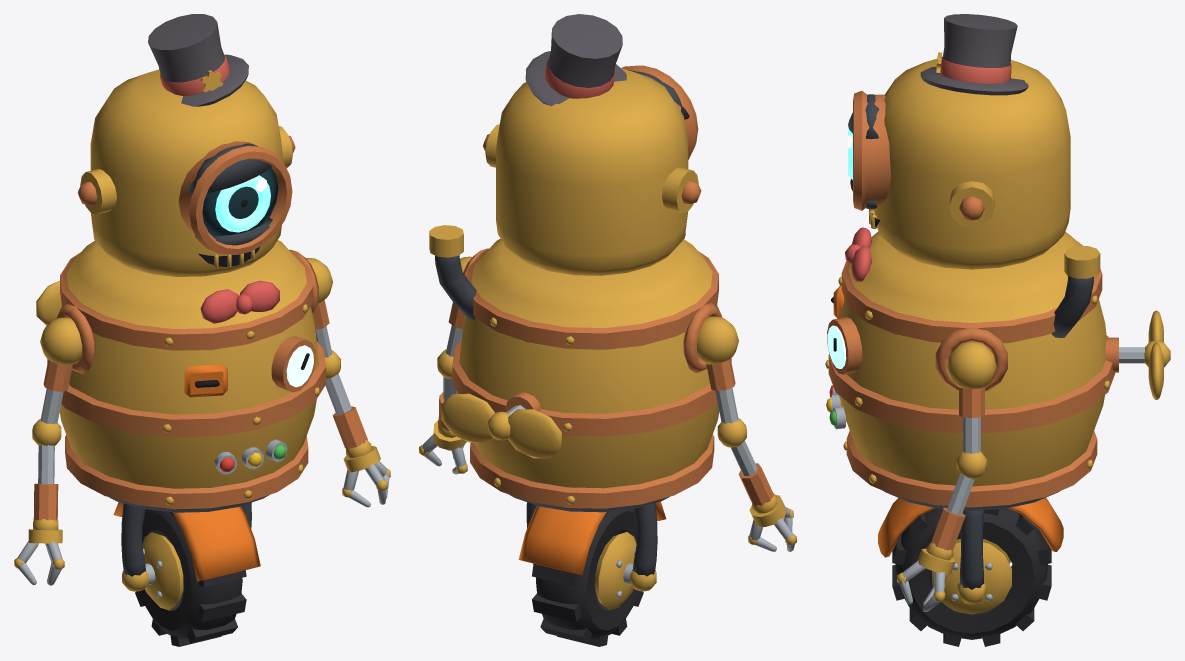
The model's file is npc_gus.glb.
The picture shows the model from 3 angles, left to right: view 1: azimuth 30°, elevation 25°; view 2: azimuth 150°, elevation 25°; view 3: azimuth 270°, elevation 25°; orthographic projection. The views are drawn at different scales.
Visible parts, largest first — view 1: Body, Head, ArmR, ArmL; view 2: Body, Head, ArmR, ArmL; view 3: Body, Head, ArmL.
Boxes of the visible parts, x1,y1,x2,y2 form: Body: (36, 240, 325, 646); Head: (77, 14, 295, 276); ArmR: (14, 317, 82, 585); ArmL: (306, 258, 390, 507); Body: (429, 225, 731, 646); Head: (483, 14, 701, 275); ArmR: (697, 316, 796, 551); ArmL: (419, 256, 472, 474); Body: (825, 227, 1170, 646); Head: (847, 14, 1070, 269); ArmL: (897, 341, 996, 611).
Size of the model in its own units: 0.8832 by 1.37 by 0.6891.
